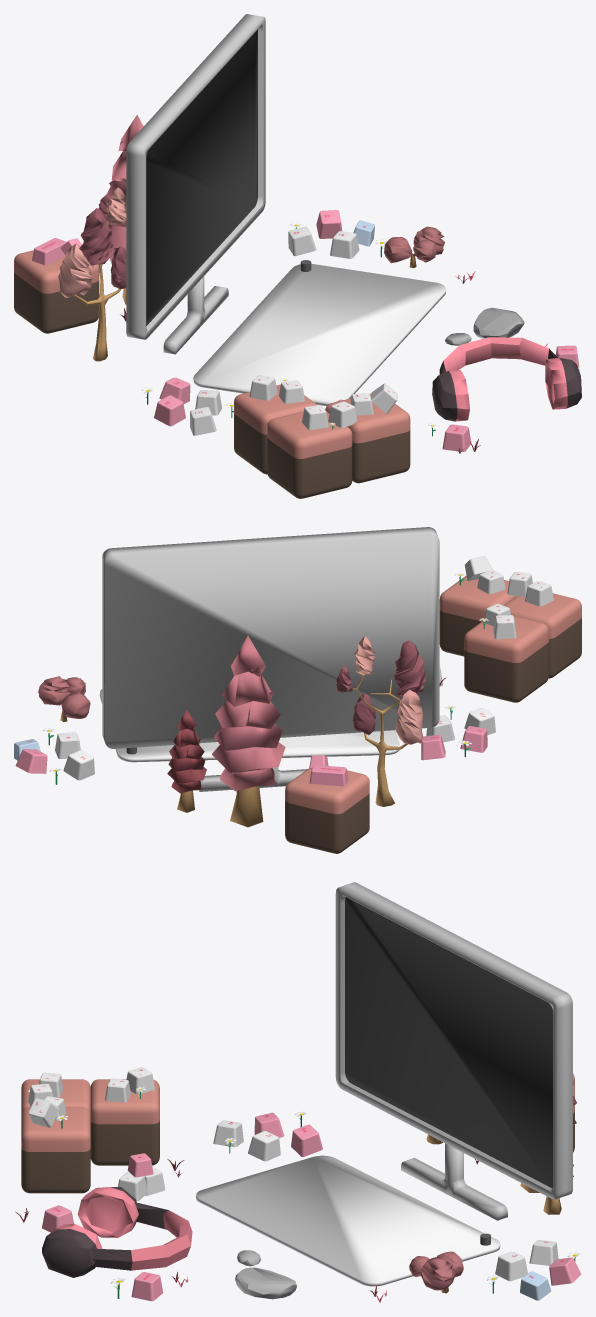
File: ch03_left.fbx
3 renders of one model, top to bottom at view 1: azimuth 30°, elevation 25°; view 2: azimuth 150°, elevation 25°; view 3: azimuth 270°, elevation 25°, orthographic. The views are drawn at different scales.
Visible parts, largest first — view 1: Ch03_Left.001; view 2: Ch03_Left.001; view 3: Ch03_Left.001.
Boxes of the visible parts, x1=… form: Ch03_Left.001: x1=14, y1=14, x2=581, y2=498; Ch03_Left.001: x1=14, y1=527, x2=581, y2=853; Ch03_Left.001: x1=15, y1=882, x2=581, y2=1302.
Bounding box in the file's own units: 14.29 × 8.7 × 17.43.
